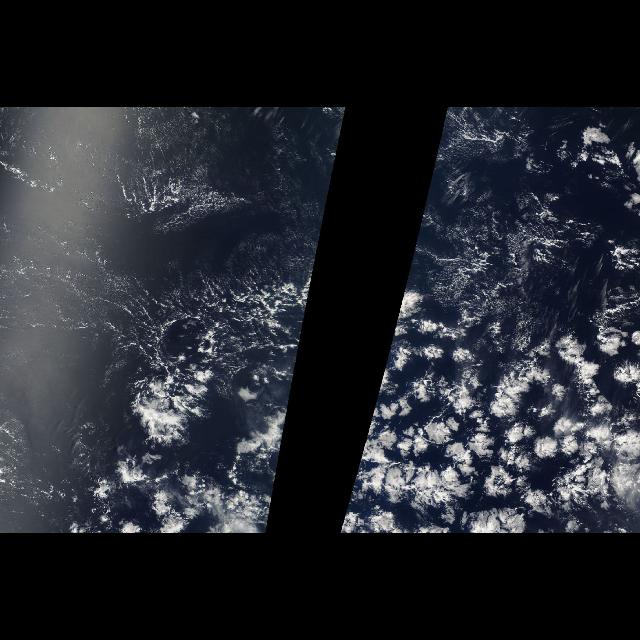Flower: (338, 277, 640, 533), (137, 282, 311, 534)
Gravel: (142, 282, 308, 368)
Sugar: (0, 107, 348, 291), (402, 107, 588, 291)
